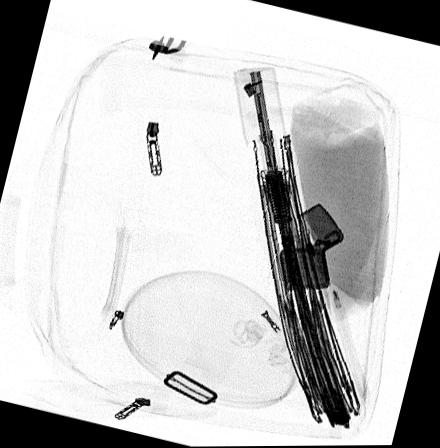Lighter: (278, 201, 343, 287)
